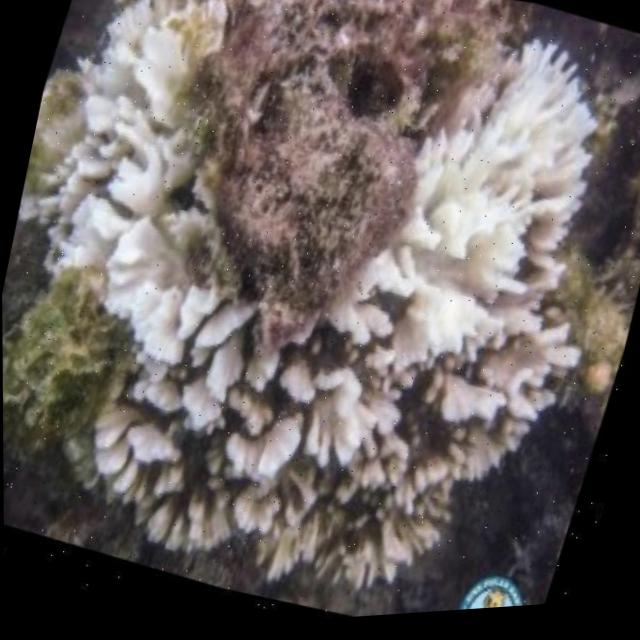Bleached Coral: (9, 0, 273, 407), (365, 7, 616, 390)
